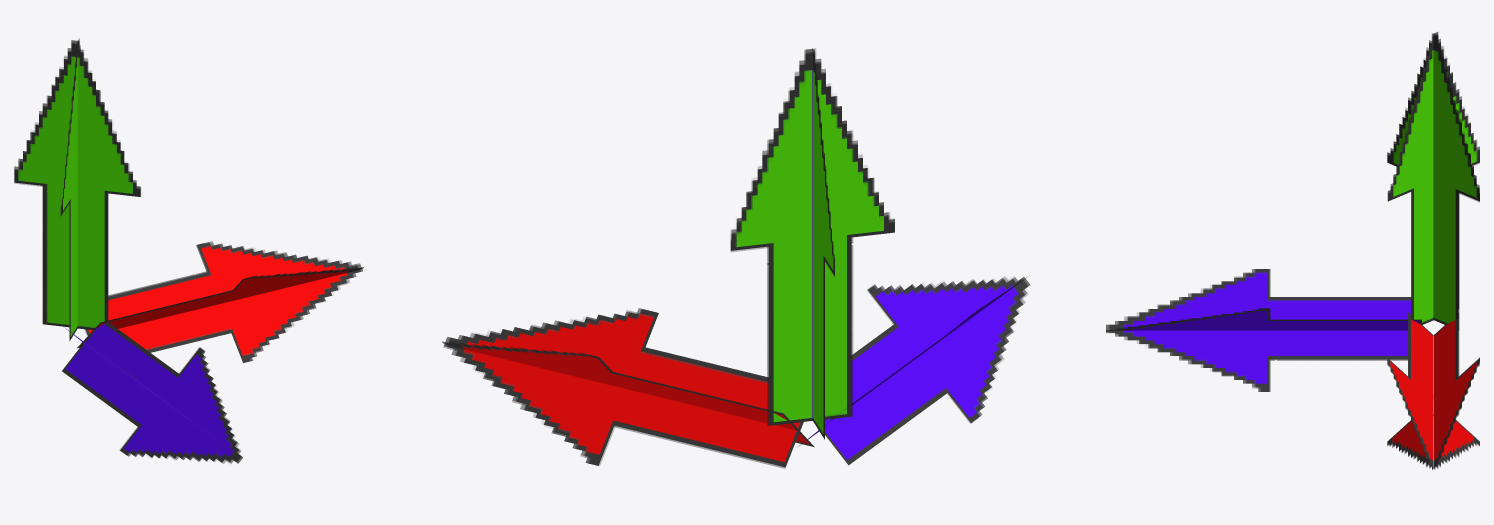
The model's file is arrow.gltf.
3 views of the same model, side by side, from view 1: azimuth 30°, elevation 25°; view 2: azimuth 150°, elevation 25°; view 3: azimuth 270°, elevation 25° (orthographic). The views are drawn at different scales.
Parts seen in each view (by area): view 1: Plane.002; view 2: Plane.002; view 3: Plane.002.
Part boxes in pixels (bbox=[...]): Plane.002: bbox=[14, 38, 363, 463]; Plane.002: bbox=[442, 48, 1029, 468]; Plane.002: bbox=[1106, 32, 1479, 469].
Bounding box in the file's own units: 1 × 1 × 1.
Materials: 1 (1 with a texture image).
